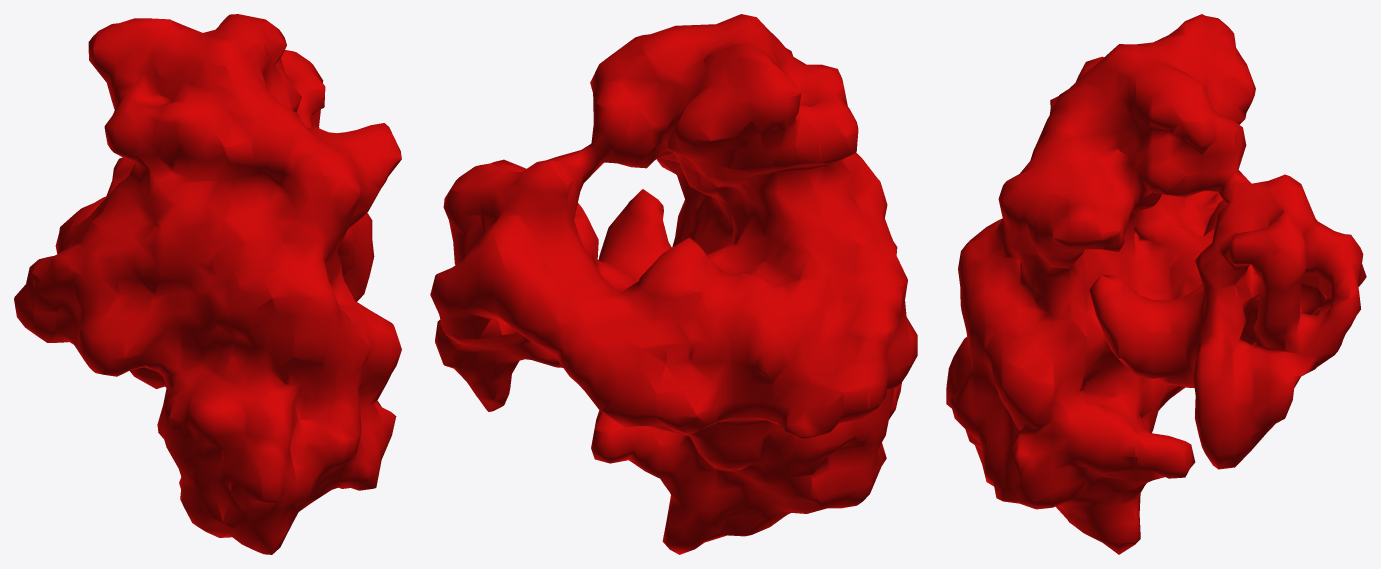
The model's file is CoarseMS_1kln.fbx.
3 views of the same model, side by side, from view 1: azimuth 30°, elevation 25°; view 2: azimuth 150°, elevation 25°; view 3: azimuth 270°, elevation 25° (orthographic). The views are drawn at different scales.
Visible parts, largest first — view 1: CoarseMS_1kln_Mesh; view 2: CoarseMS_1kln_Mesh; view 3: CoarseMS_1kln_Mesh.
Part boxes in pixels (x1,y1,x2,y2): CoarseMS_1kln_Mesh: (14,14,401,554); CoarseMS_1kln_Mesh: (430,14,917,554); CoarseMS_1kln_Mesh: (946,14,1366,554).
Size of the model in its own units: 64.34 by 86.54 by 67.85.
